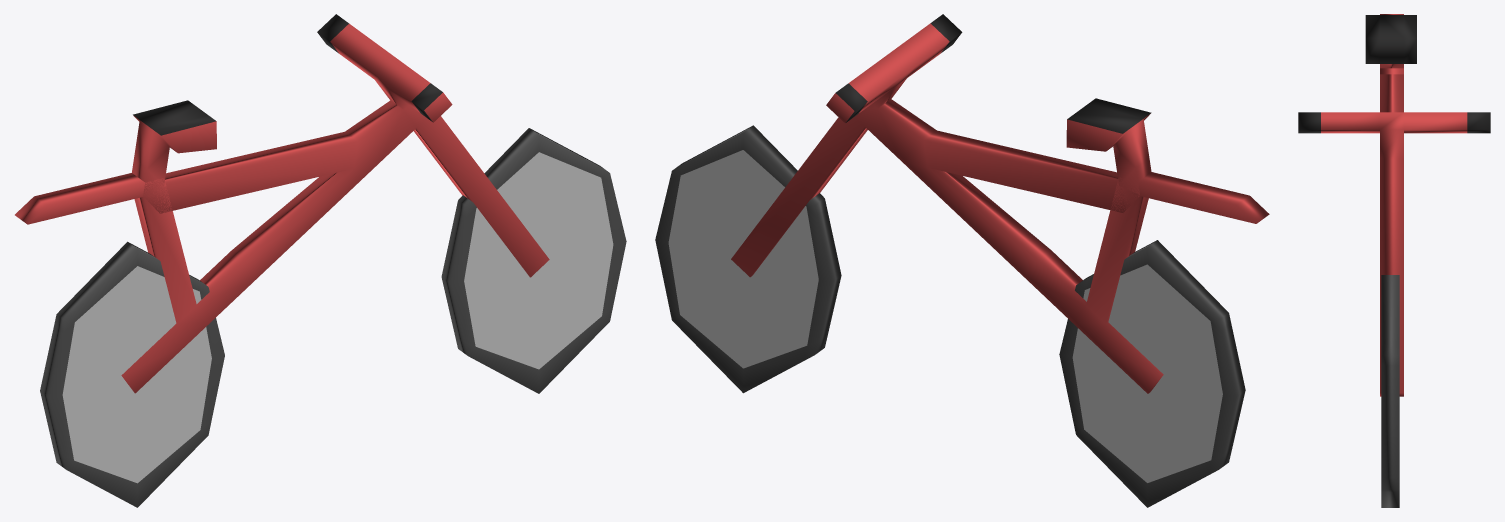
The model's file is BICICLETA.dae.
The picture shows the model from 3 angles, left to right: view 1: azimuth 30°, elevation 25°; view 2: azimuth 150°, elevation 25°; view 3: azimuth 270°, elevation 25°; orthographic projection. The views are drawn at different scales.
Visible parts, largest first — view 1: Cube.240; view 2: Cube.240; view 3: Cube.240.
Boxes of the visible parts, x1=… form: Cube.240: x1=15, y1=14, x2=626, y2=507; Cube.240: x1=655, y1=14, x2=1269, y2=507; Cube.240: x1=1298, y1=14, x2=1490, y2=507.
Bounding box in the file's own units: 3.9 × 1.21 × 2.4.
